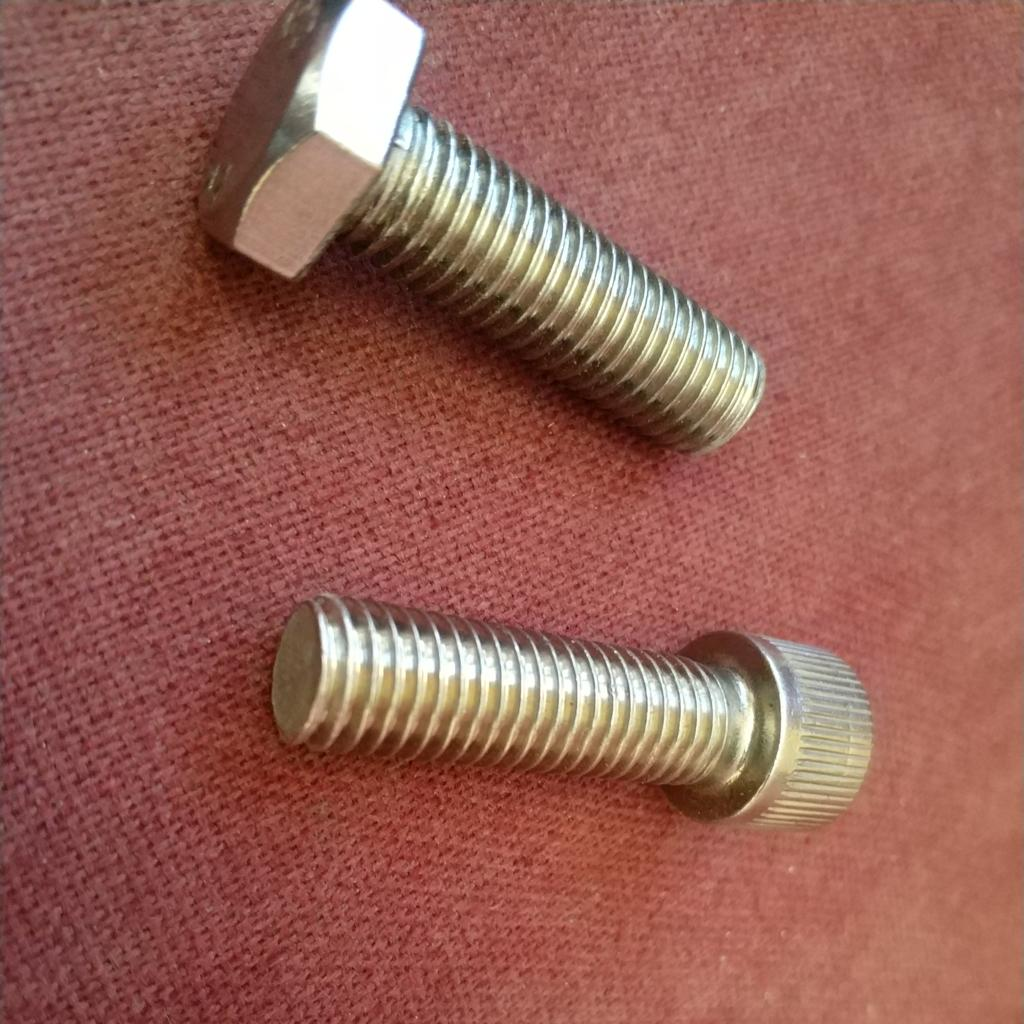screwtype1silver: (259, 586, 878, 846)
screwtype2silver: (187, 2, 775, 471)
